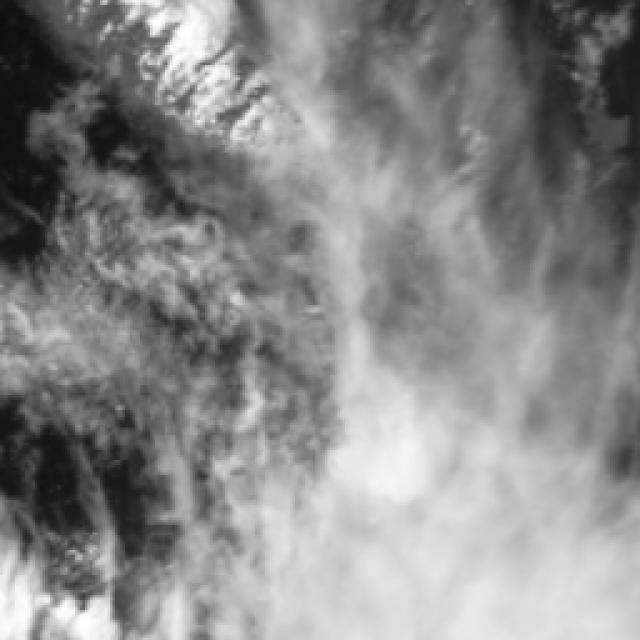CB: (332, 468, 586, 638)
